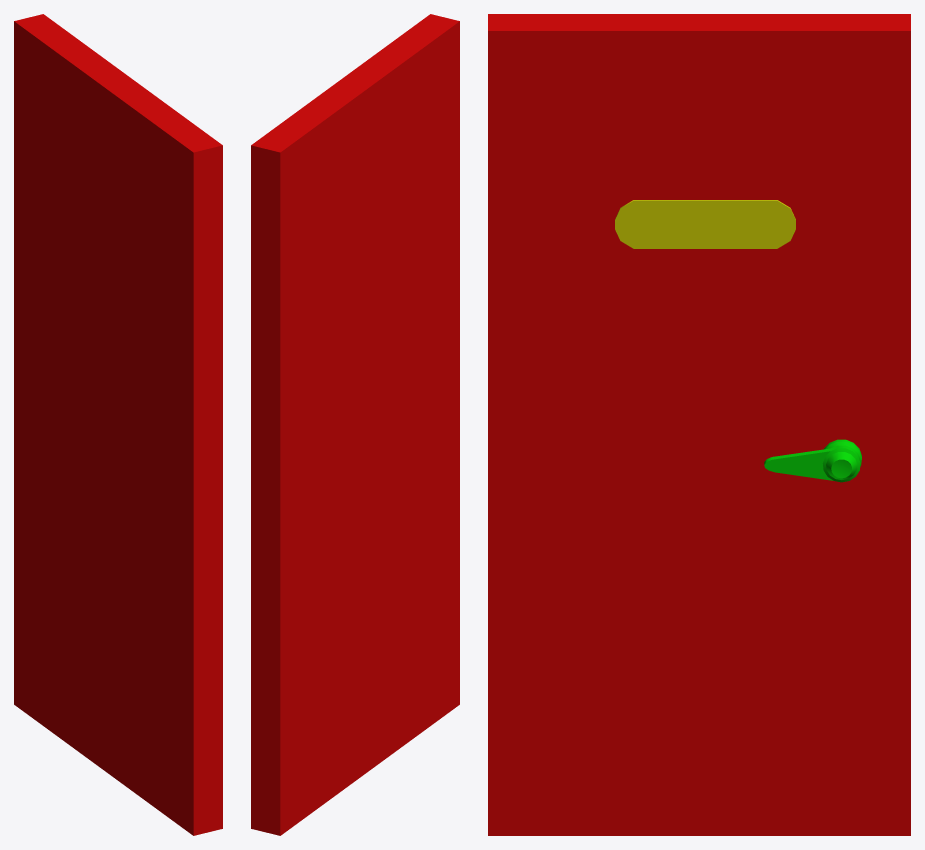
Rendered from SM_Porte.fbx.
3 renders of one model, left to right at view 1: azimuth 30°, elevation 25°; view 2: azimuth 150°, elevation 25°; view 3: azimuth 270°, elevation 25°, orthographic. The views are drawn at different scales.
Parts seen in each view (by area): view 1: pCube4; view 2: pCube4; view 3: pCube4.
Boxes of the visible parts, left/top/right/bottom form: pCube4: left=14, top=14, right=222, bottom=835; pCube4: left=251, top=14, right=459, bottom=835; pCube4: left=488, top=14, right=910, bottom=835.
Size of the model in its own units: 0.2897 by 3.9 by 1.86.
